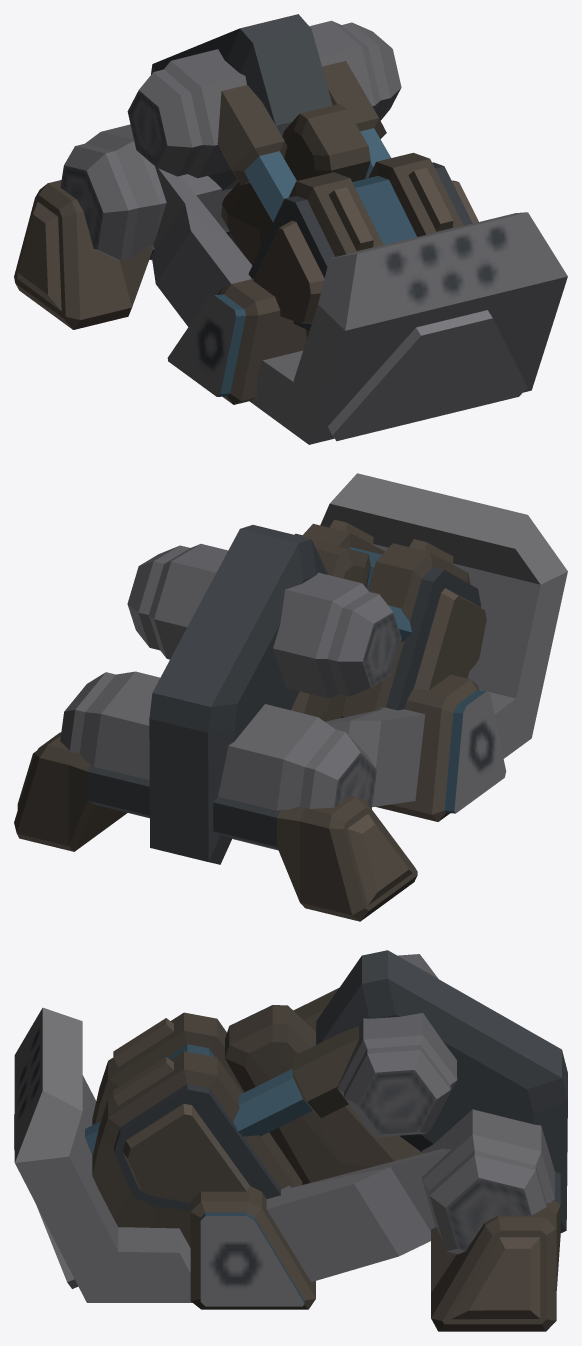
File: SM_Mech_Foot_01_Armor_Toes_03.fbx
The picture shows the model from 3 angles, top to bottom: view 1: azimuth 30°, elevation 25°; view 2: azimuth 150°, elevation 25°; view 3: azimuth 270°, elevation 25°; orthographic projection.
Visible parts, largest first — view 1: SM_Mech_Foot_01_Armor_Toes_03; view 2: SM_Mech_Foot_01_Armor_Toes_03; view 3: SM_Mech_Foot_01_Armor_Toes_03.
Boxes of the visible parts, left/top/right/bottom form: SM_Mech_Foot_01_Armor_Toes_03: left=14, top=14, right=567, bottom=444; SM_Mech_Foot_01_Armor_Toes_03: left=14, top=473, right=567, bottom=921; SM_Mech_Foot_01_Armor_Toes_03: left=14, top=950, right=567, bottom=1331.
Size of the model in its own units: 61.78 by 46.78 by 82.55.
